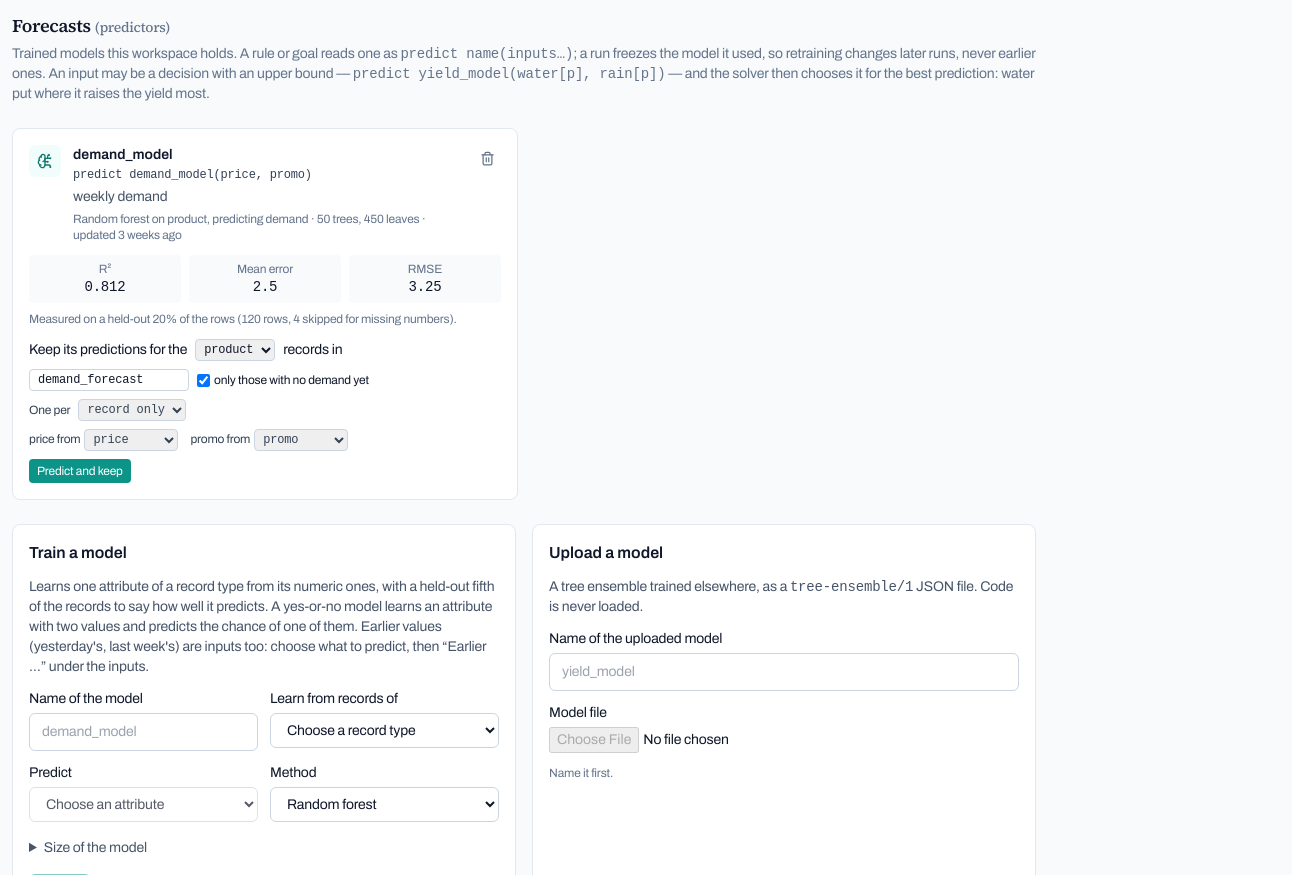
Test: keeps one prediction per record and period, an input held at a number (benchmark re-test, October 2026)
Select "week" in the dropdown named "One prediction per" at [132, 410], box [78,399,186,421]
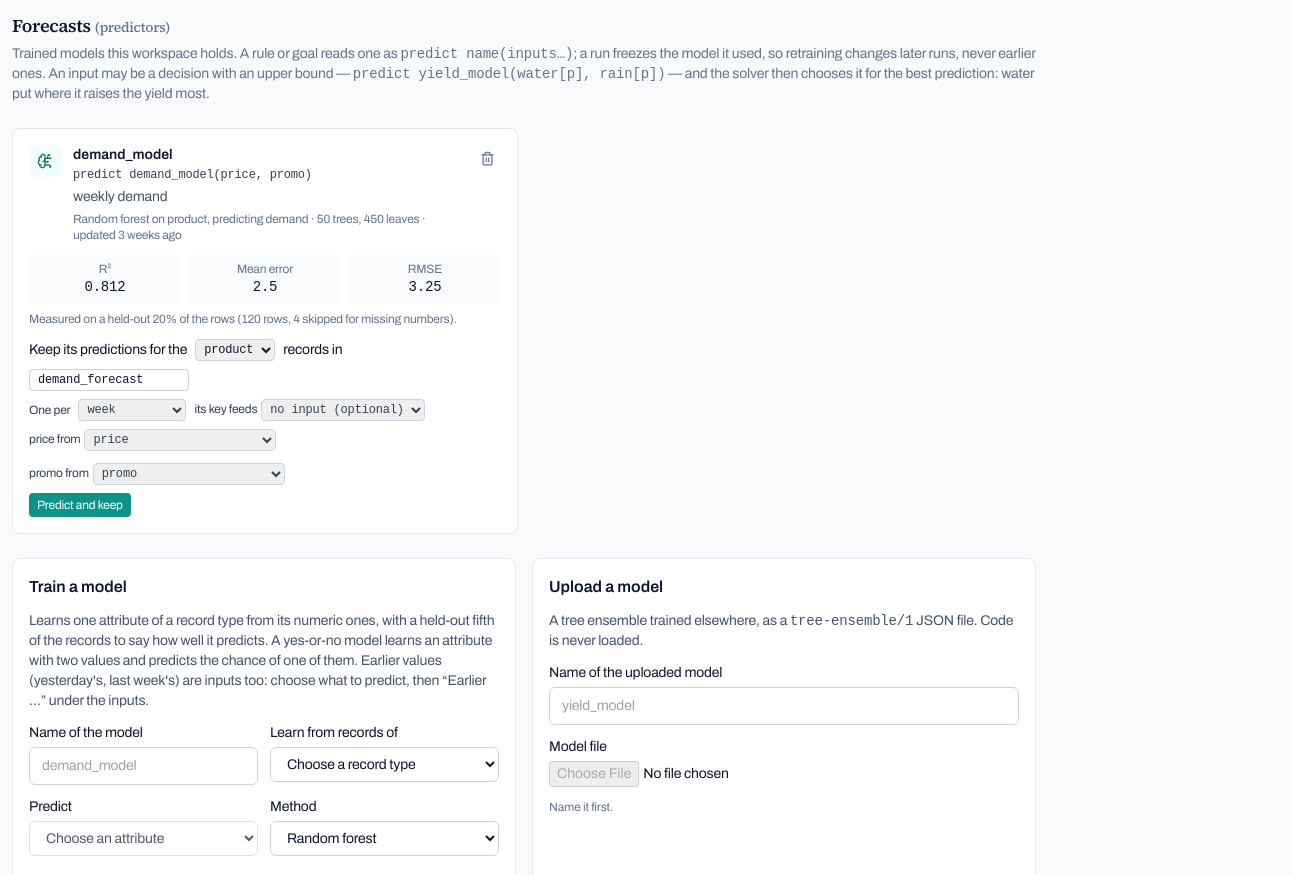
Select "promo" in the dropdown named "Input each period feeds" at [343, 410], box [261,399,425,421]
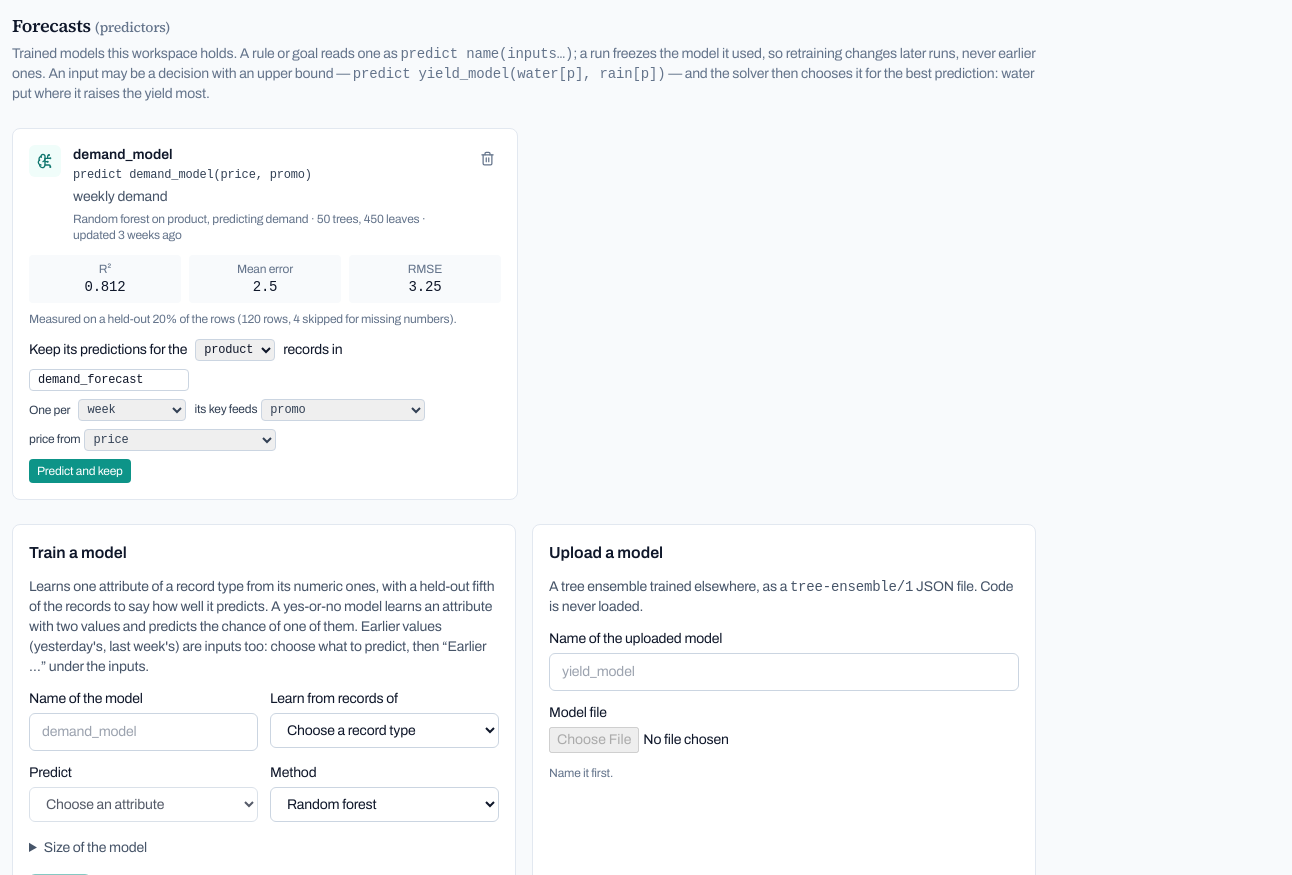
Select "a number…" in the dropdown named "price comes from" at [180, 440], box [84,429,276,451]
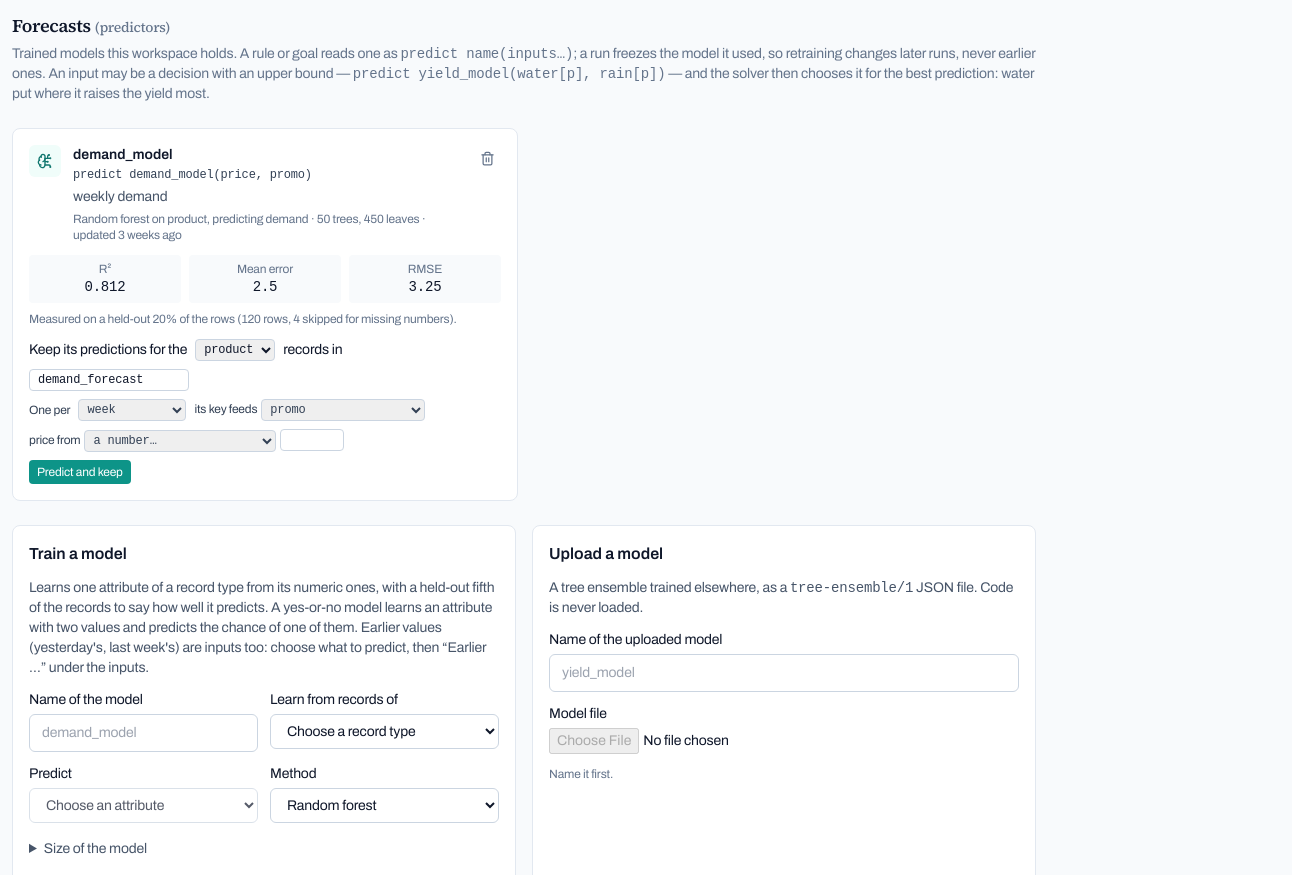
Type "9.5" into the field named "price held at" at [312, 440], box [280,429,344,451]
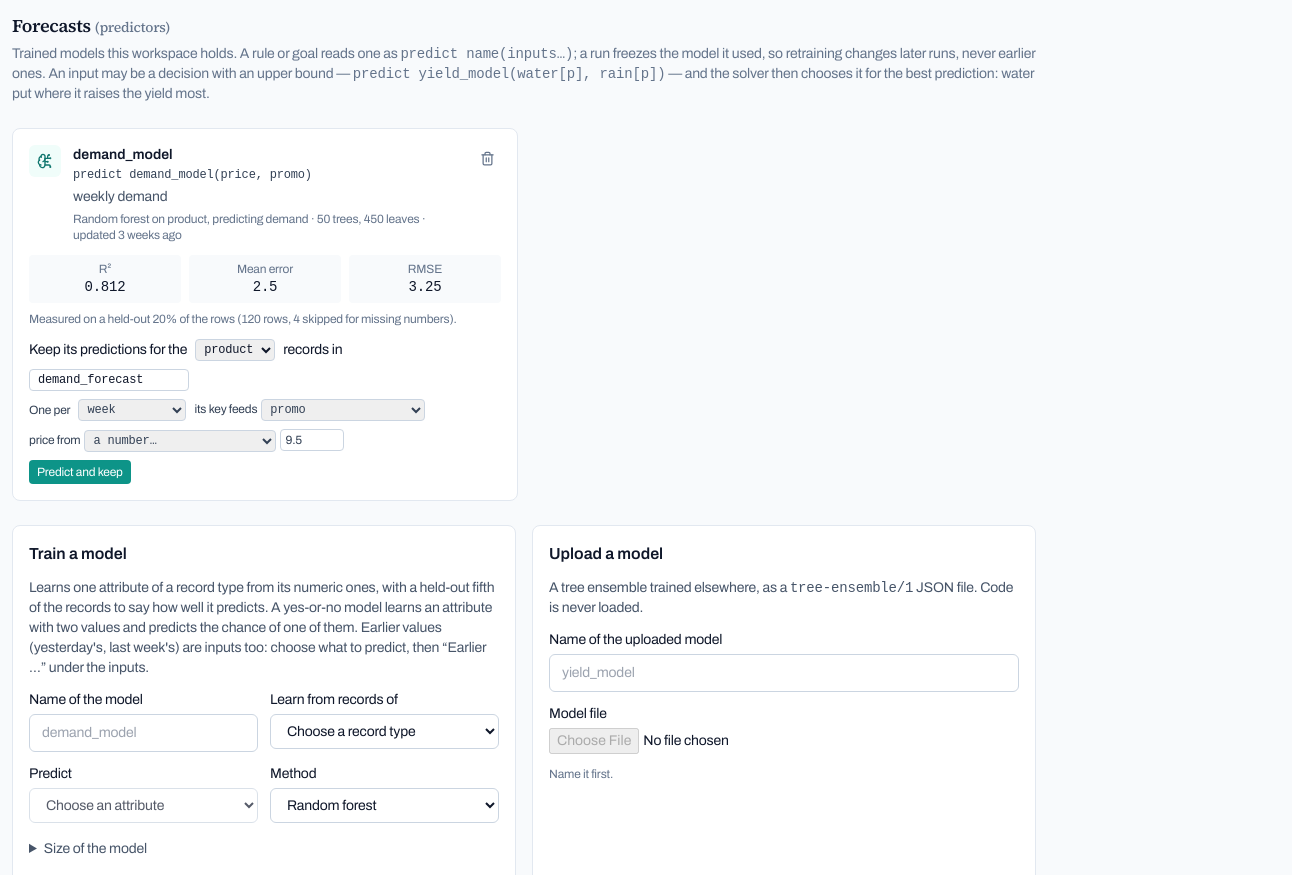
Click the button "Predict and keep" at [80, 472], box [29,460,131,484]
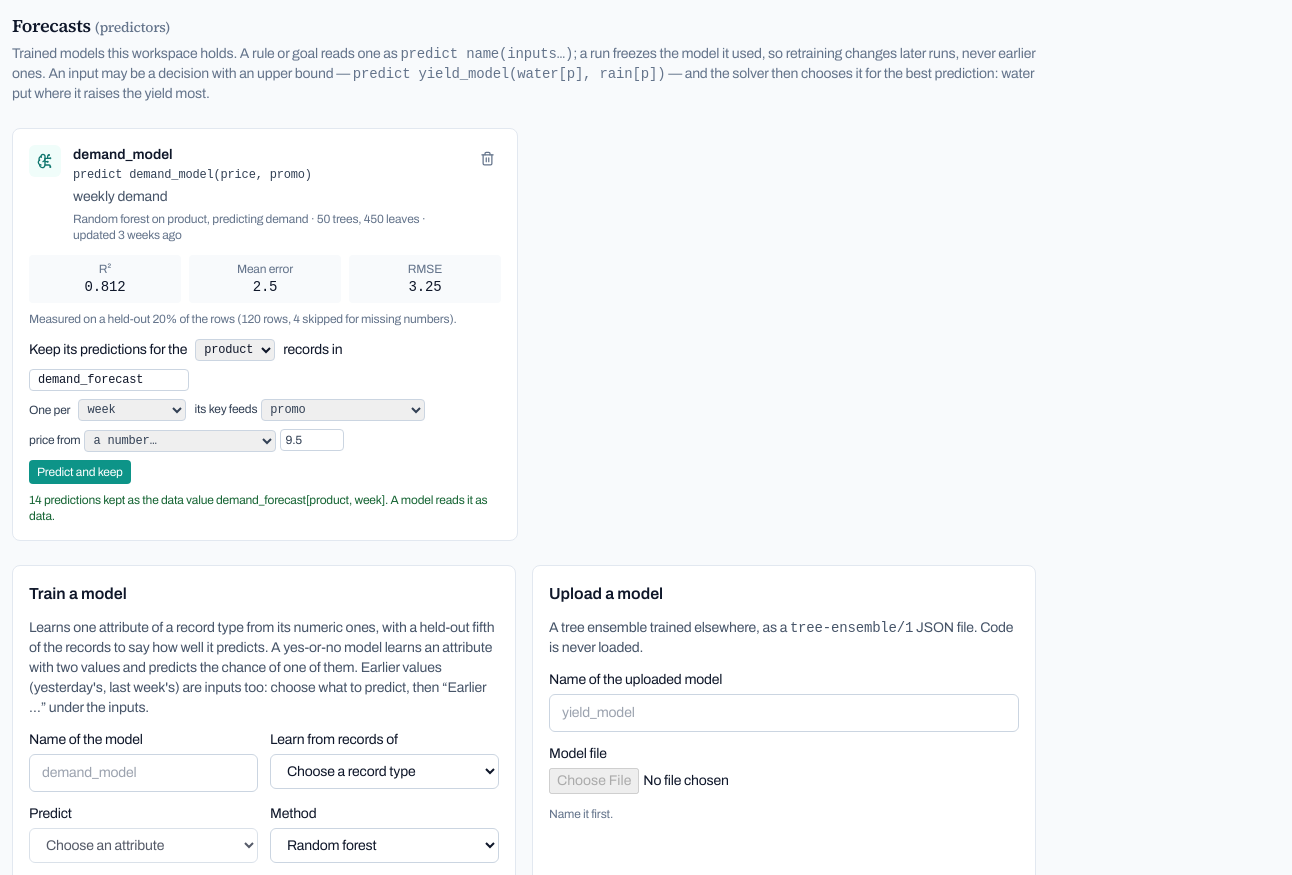
Now the text "14 predictions kept as the data value demand_forecast[product, week]" is shown, box [29,493,488,523]
